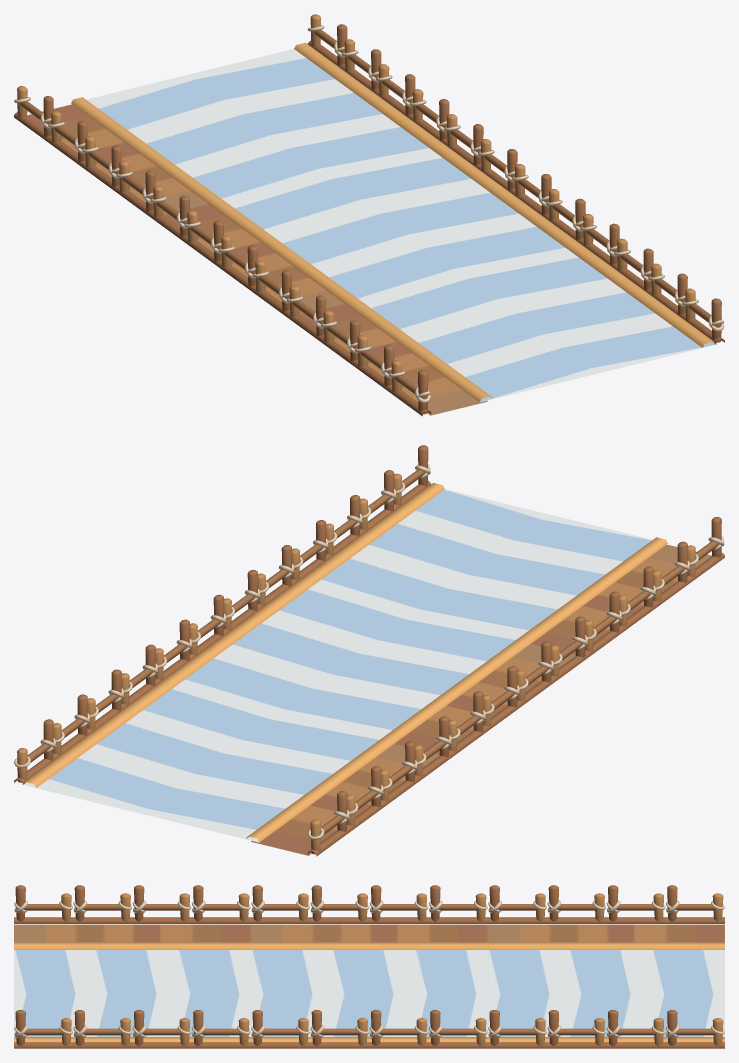
Rendered from wooden line long.fbx.
3 views of the same model, one above another, from view 1: azimuth 30°, elevation 25°; view 2: azimuth 150°, elevation 25°; view 3: azimuth 270°, elevation 25° (orthographic). The views are drawn at different scales.
Visible parts, largest first — view 1: wooden line; view 2: wooden line; view 3: wooden line.
Part boxes in pixels (<box>): wooden line: <box>14,14,724,416</box>; wooden line: <box>14,445,724,856</box>; wooden line: <box>14,885,724,1048</box>.
Size of the model in its own units: 653 by 85.71 by 1498.
